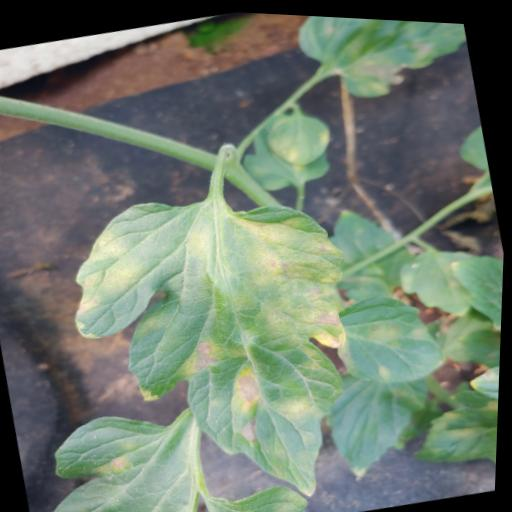Leaf Mold: (47, 156, 398, 512), (20, 391, 217, 512), (291, 12, 475, 109), (326, 274, 456, 391), (194, 468, 326, 512)
